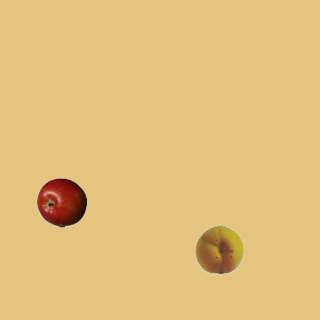Apple Braeburn: (36, 177, 86, 227)
Peach 2: (194, 223, 244, 273)
